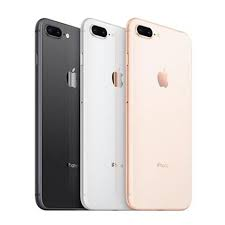iphone: (123, 15, 192, 211)
